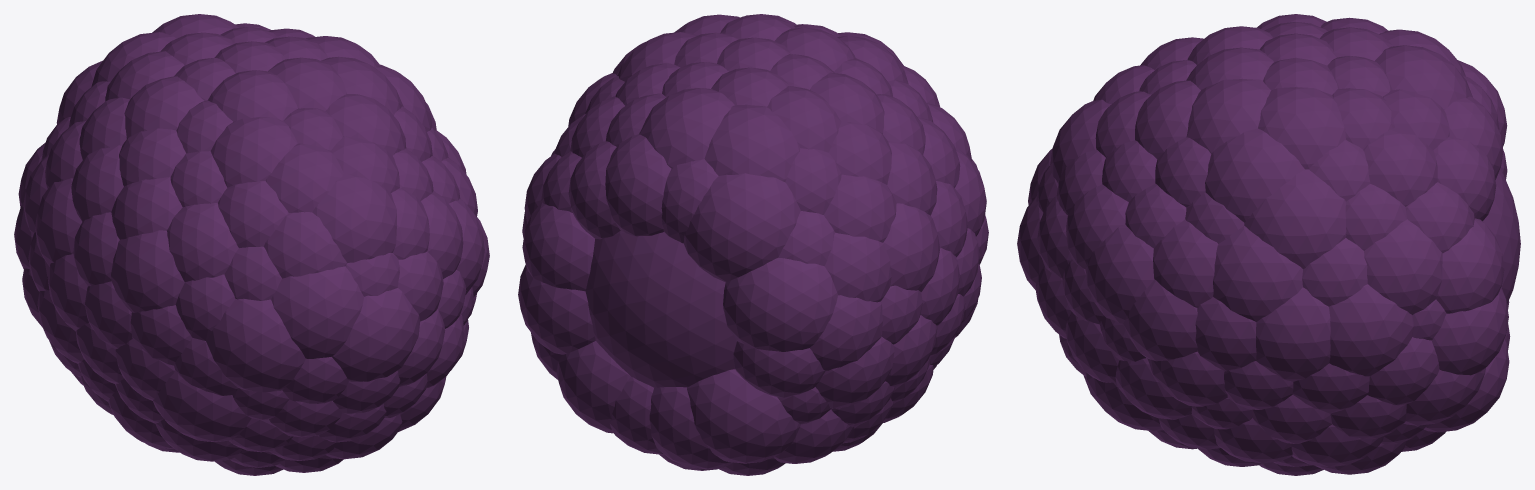
3 renders of one model, left to right at view 1: azimuth 30°, elevation 25°; view 2: azimuth 150°, elevation 25°; view 3: azimuth 270°, elevation 25°, orthographic. The views are drawn at different scales.
Parts seen in each view (by area): view 1: world; view 2: world; view 3: world.
Part boxes in pixels (x1,y1,x2,y2): world: (14, 14, 489, 475); world: (518, 14, 988, 475); world: (1017, 14, 1520, 475).
Bounding box in the file's own units: 0.0229 × 0.0222 × 0.0246.
